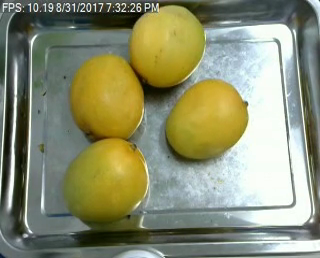Mango: (61, 138, 148, 223), (162, 80, 249, 159), (70, 54, 144, 139), (129, 5, 204, 86)
